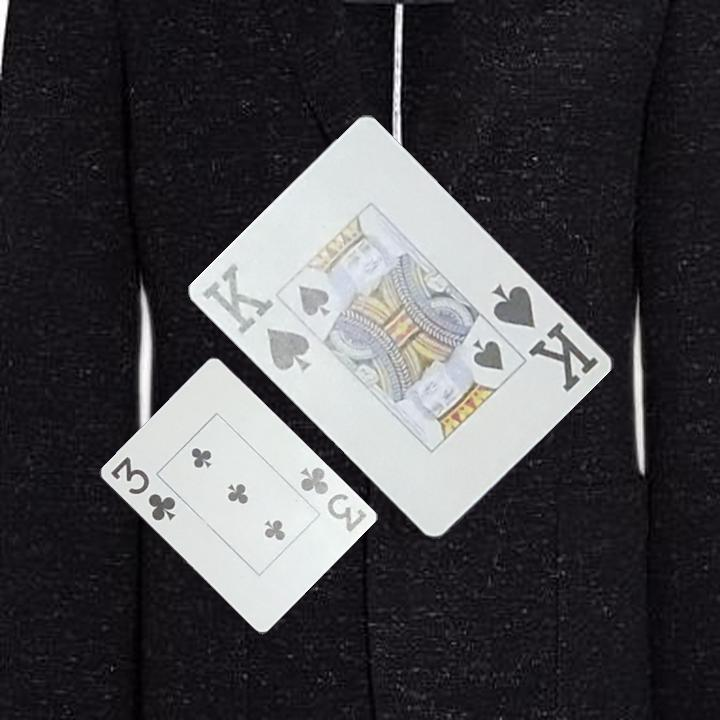3c: (296, 463, 369, 535), (107, 453, 179, 524)
Ks: (199, 259, 314, 374), (489, 280, 603, 395)
